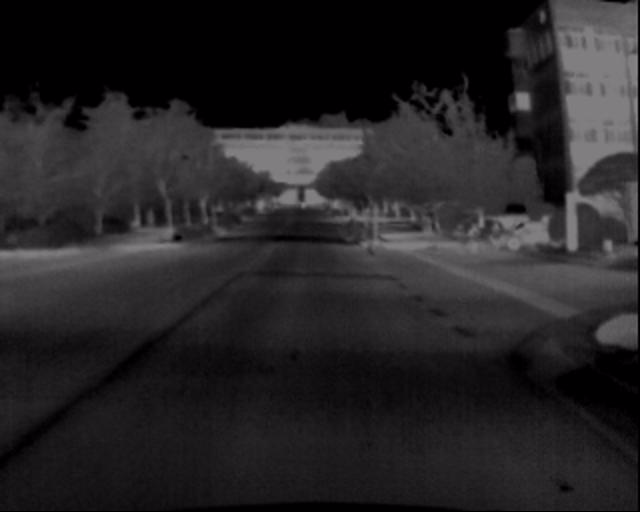person: (489, 217, 509, 254)
